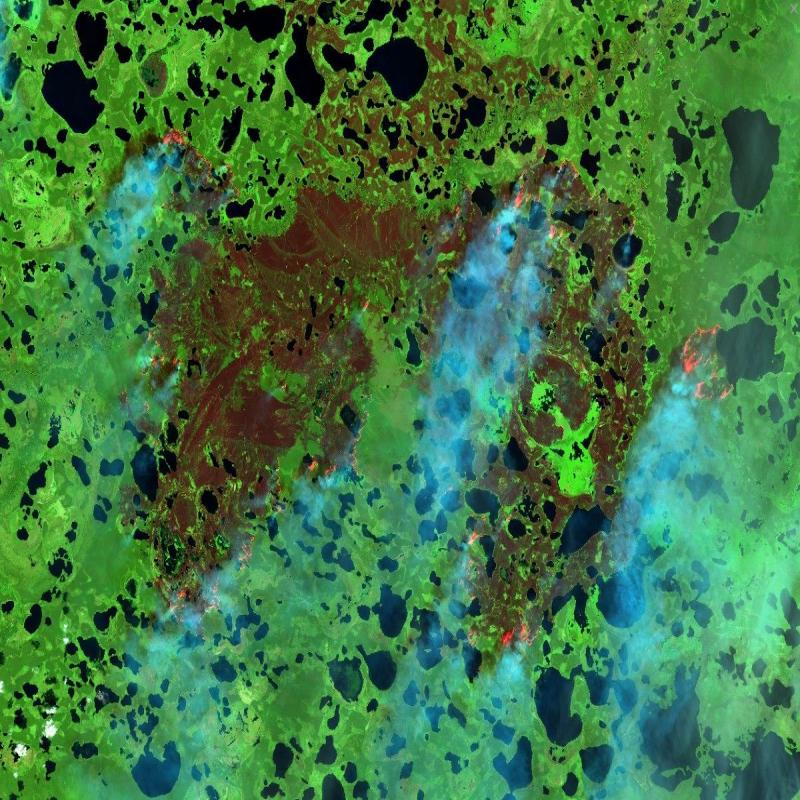fire: (140, 366, 374, 622), (480, 131, 648, 279), (446, 506, 554, 678), (146, 117, 242, 228), (676, 303, 744, 414)
